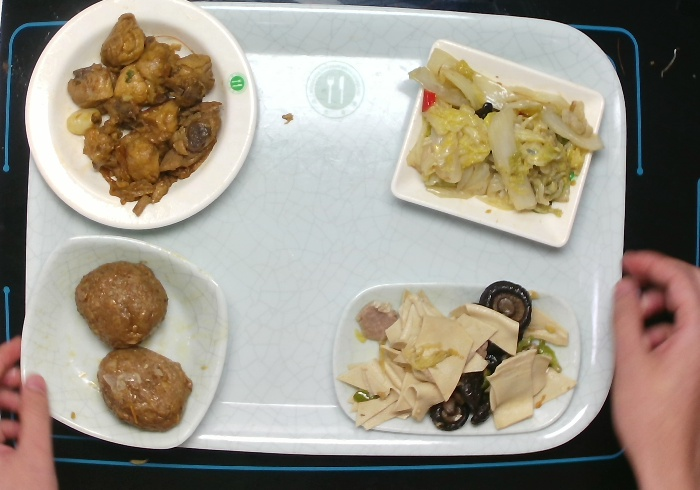WCQzf-Bai_Se_Si_Fang_Die: (385, 39, 604, 252)
WCQzf-Da_Si_Fang_Die: (15, 230, 232, 452)
WCQzf-Kuan_Bian_Yuan_Die: (20, 1, 257, 242)
WCQzf-Tuo_Yuan_Pan: (323, 276, 585, 439)
